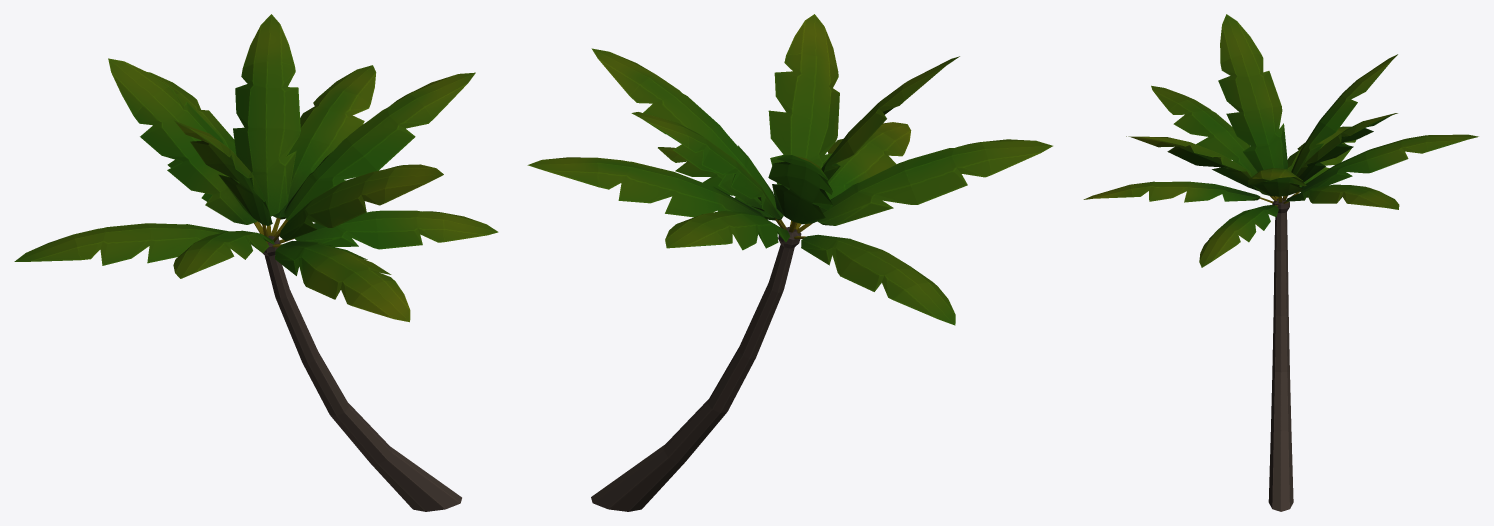
The model's file is SunshinePalmTree.gltf.
The picture shows the model from 3 angles, left to right: view 1: azimuth 30°, elevation 25°; view 2: azimuth 150°, elevation 25°; view 3: azimuth 270°, elevation 25°; orthographic projection. The views are drawn at different scales.
Visible parts, largest first — view 1: node-0; view 2: node-0; view 3: node-0.
Part boxes in pixels (bbox=[...]): node-0: bbox=[14, 14, 498, 511]; node-0: bbox=[527, 14, 1052, 511]; node-0: bbox=[1083, 14, 1478, 511].
Bounding box in the file's own units: 15.28 × 17.24 × 16.55.
Materials: 1 (1 with a texture image).
